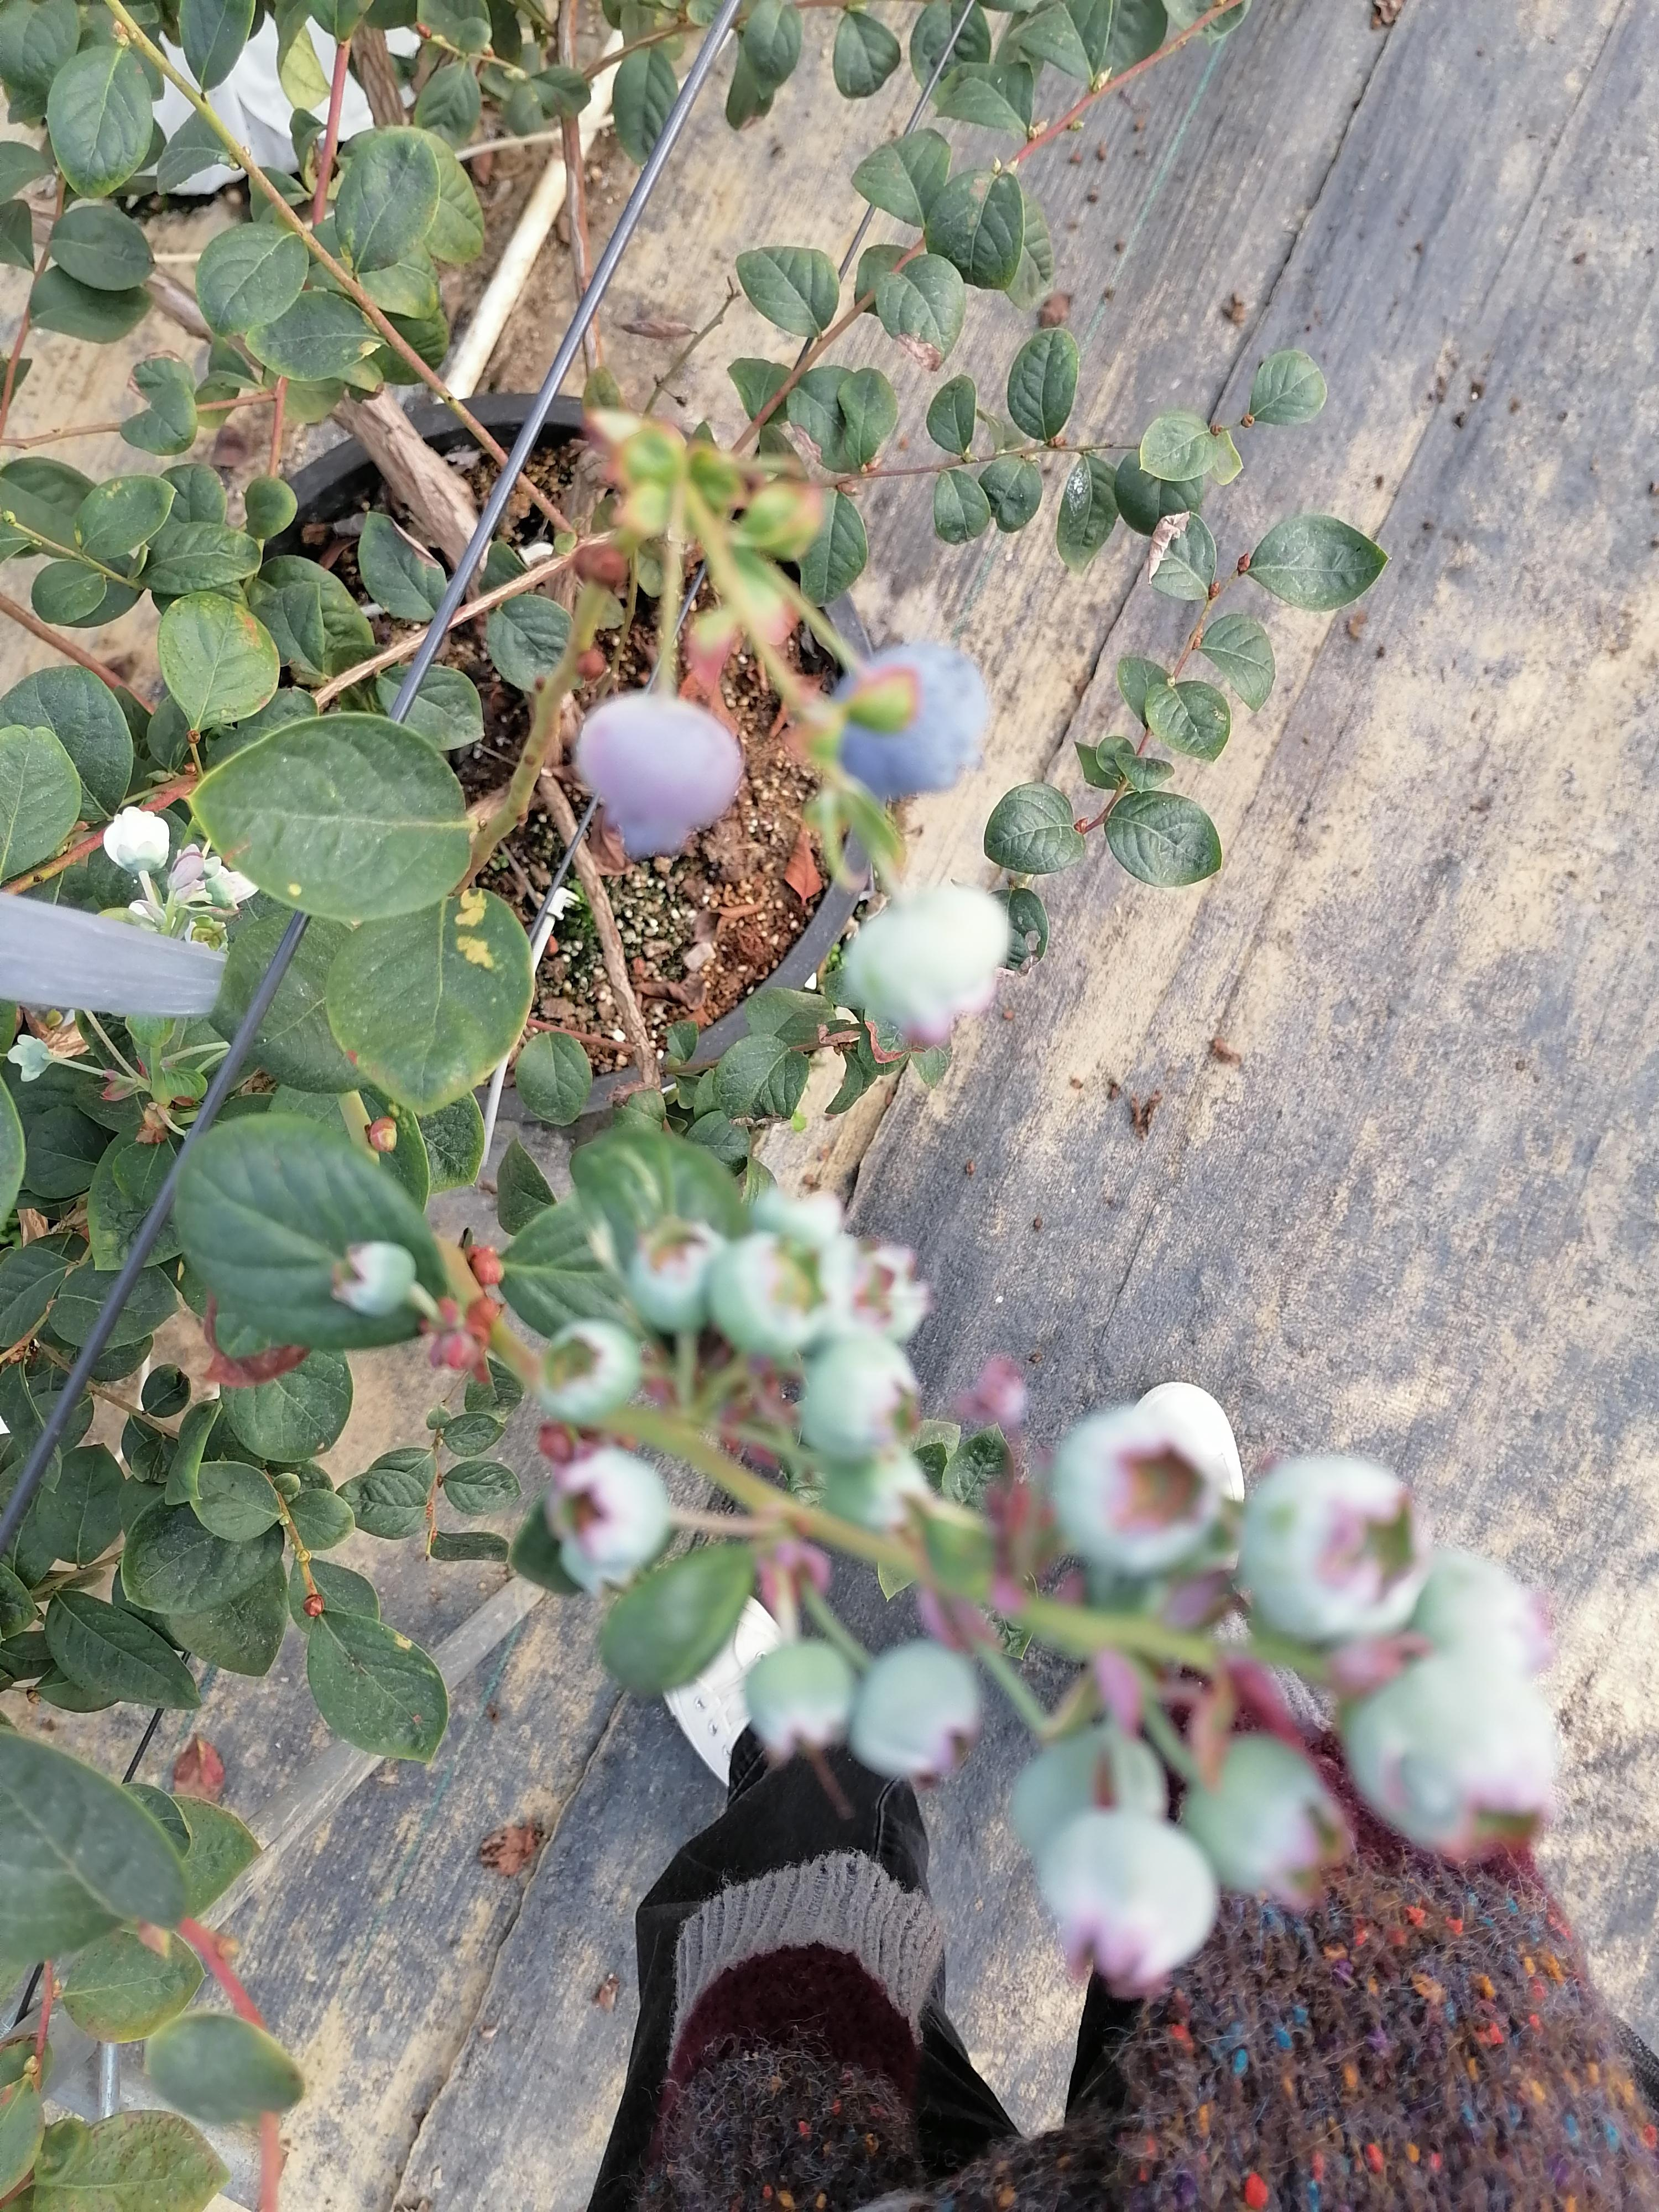ripe-blueberries: (830, 637, 986, 792)
